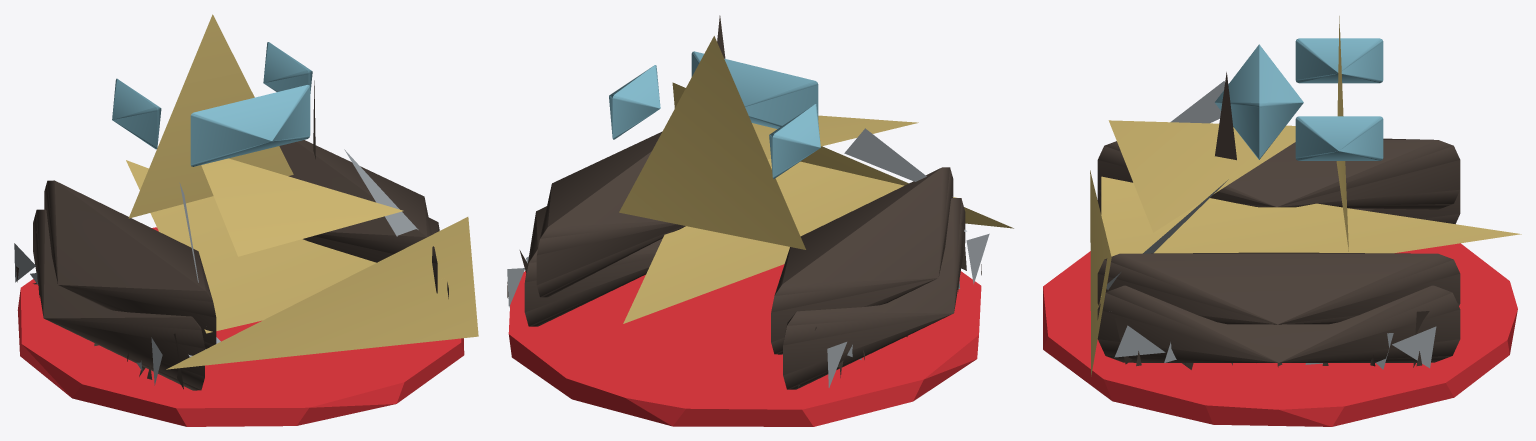
Rendered from israel_engineer_lod1.glb.
The picture shows the model from 3 angles, left to right: view 1: azimuth 30°, elevation 25°; view 2: azimuth 150°, elevation 25°; view 3: azimuth 270°, elevation 25°; orthographic projection. The views are drawn at different scales.
Visible parts, largest first — view 1: body_hull, base_pedestal; view 2: body_hull, base_pedestal; view 3: body_hull, base_pedestal.
Boxes of the visible parts, x1,y1,x2,y2 form: body_hull: (14, 14, 478, 390); base_pedestal: (17, 227, 464, 426); body_hull: (507, 15, 1013, 389); base_pedestal: (508, 264, 981, 426); body_hull: (1090, 16, 1521, 376); base_pedestal: (1043, 243, 1517, 426).
Bounding box in the file's own units: 0.7837 × 0.5645 × 0.7815.
